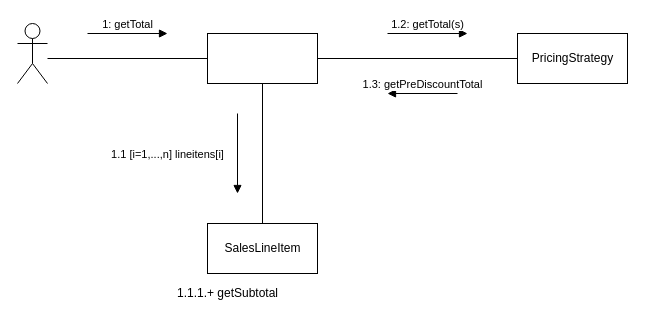
This 645x320 diagram has some shape labels left out. The shapes that lost their labels are listed below. From the top down, each one's centre as x and y in pixels, then its label:
At pixel 32 53: "User".
At pixel 262 58: "Sale".
